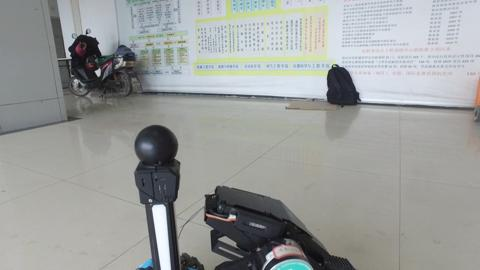bag: (320, 52, 380, 123)
chariot: (129, 140, 362, 270)
